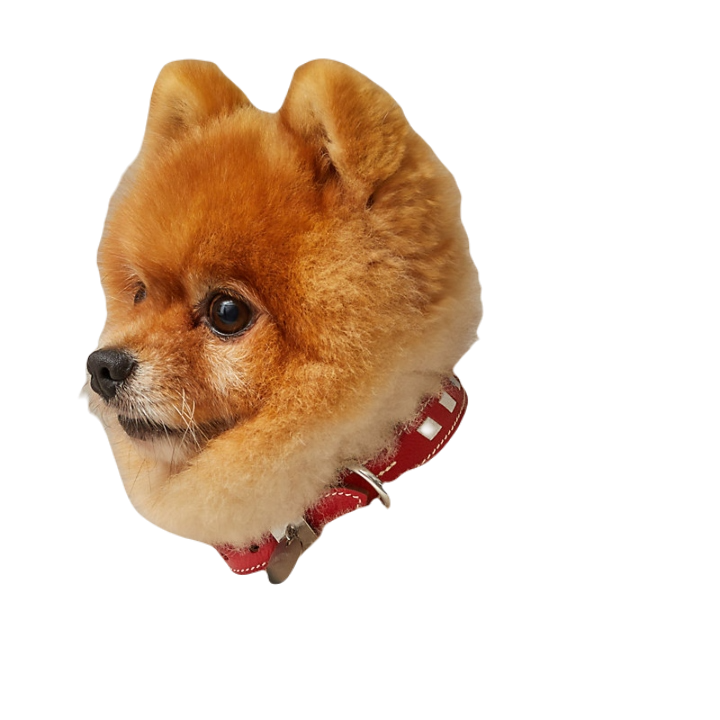Dog: (78, 54, 484, 586)
